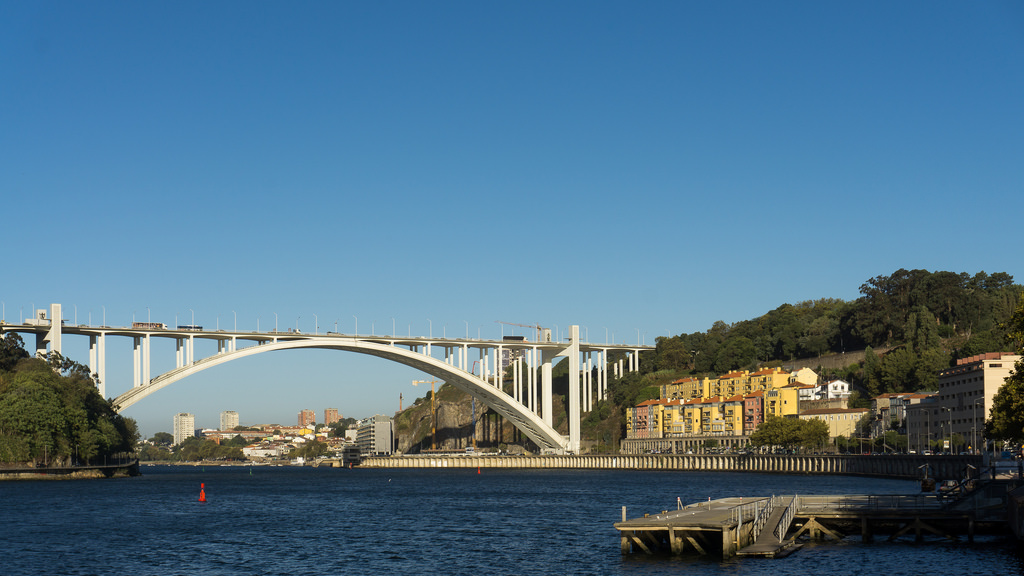arrabida: (0, 302, 653, 456)
